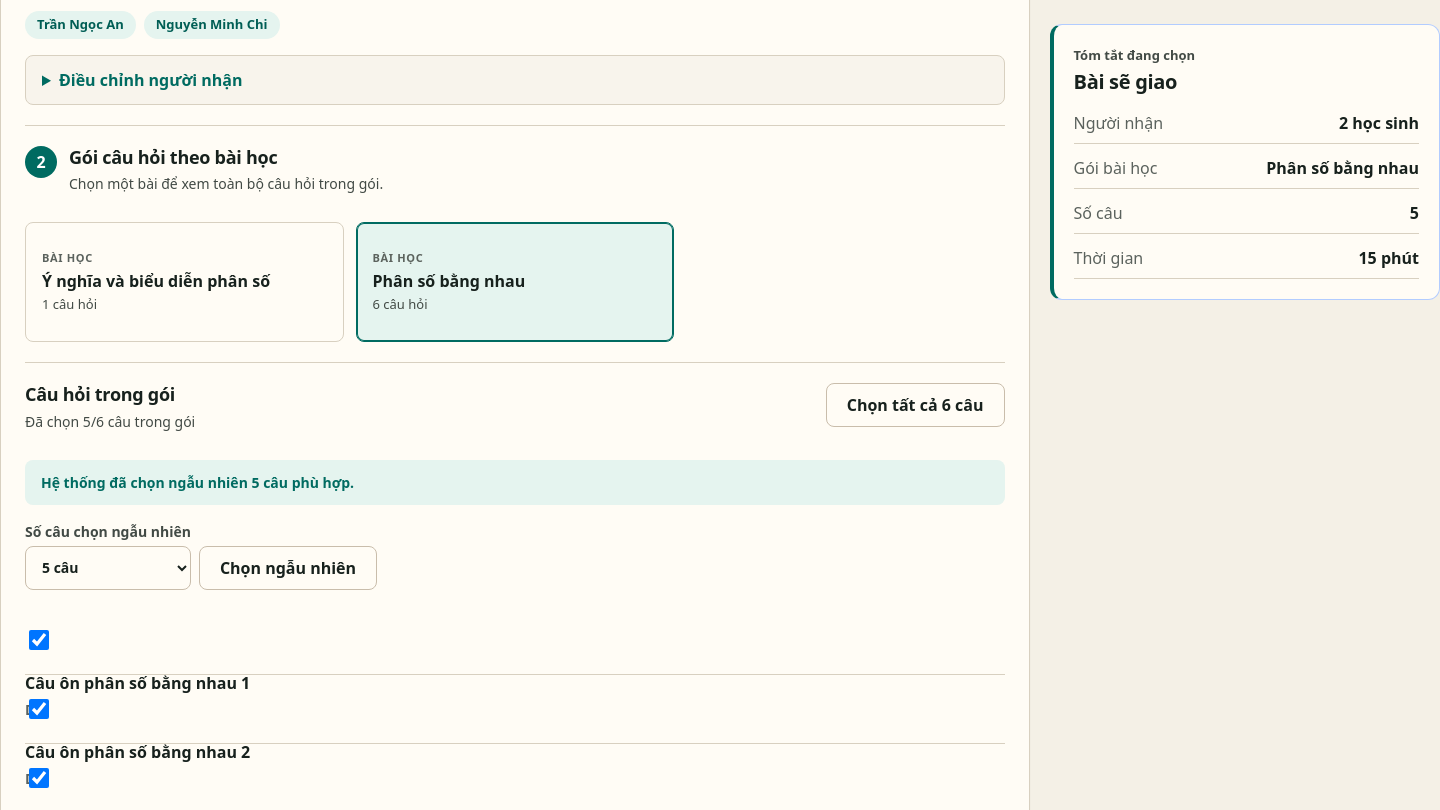
Test: targeted review assignment flow › allows selecting the entire lesson package
(page scrolled)
Click the button "Chọn tất cả 6 câu". click: (915, 405)
box: [826, 383, 1004, 427]
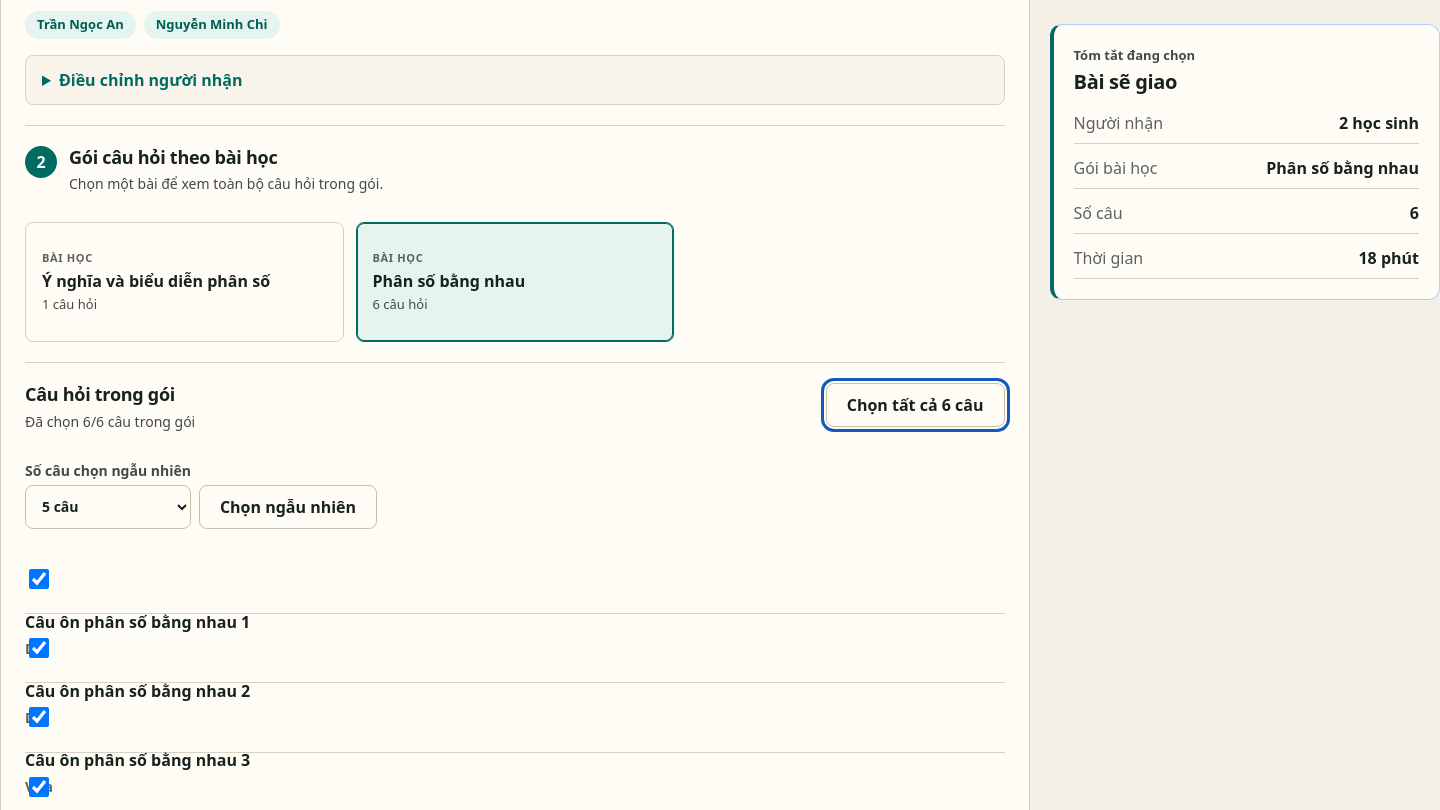
Check: the text "Đã chọn 6/6 câu trong gói" is shown, box [25, 411, 195, 432]
